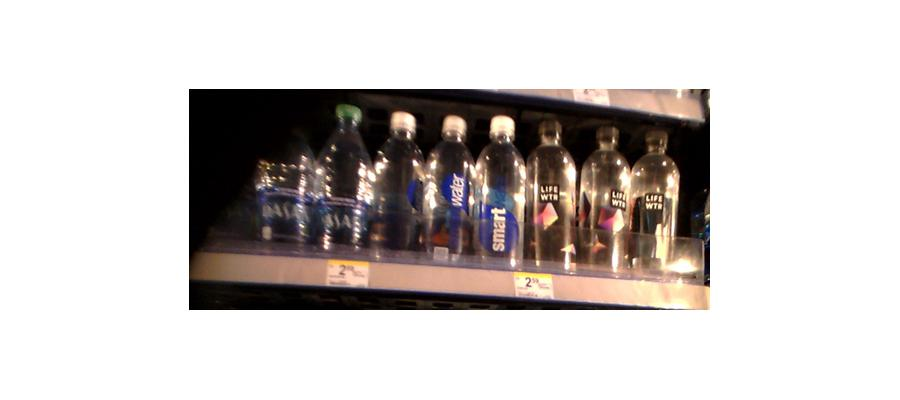bottle: (312, 102, 372, 257), (473, 117, 527, 265), (370, 114, 426, 255), (254, 114, 311, 252), (526, 119, 578, 268), (577, 125, 630, 271), (424, 116, 476, 260), (628, 133, 680, 274)
